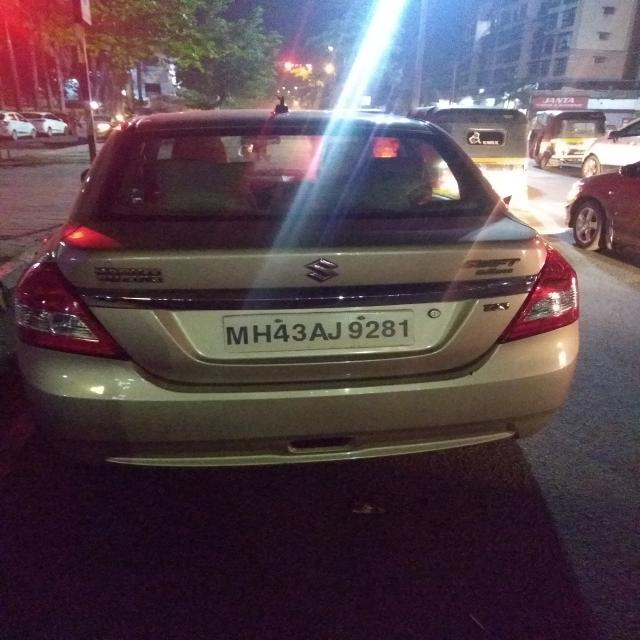Number-Plate: (224, 312, 434, 348)
